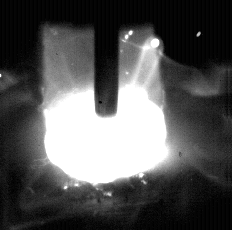arame: (96, 0, 119, 118)
poca: (43, 0, 170, 230)
